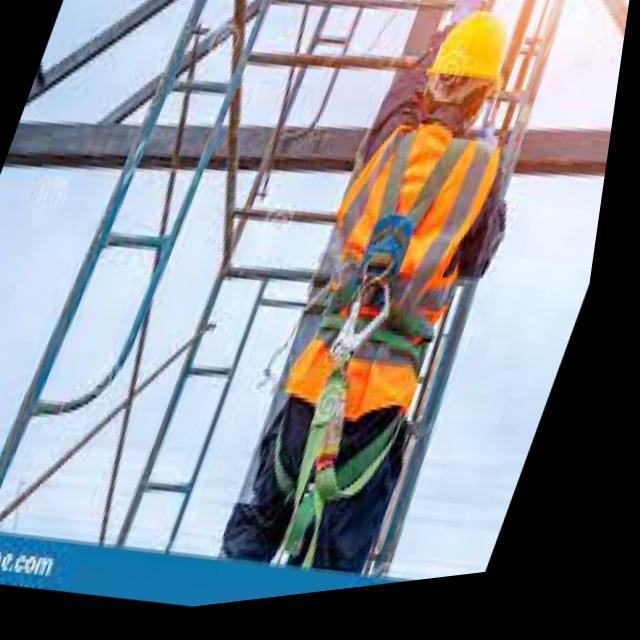belt: (225, 94, 547, 570)
